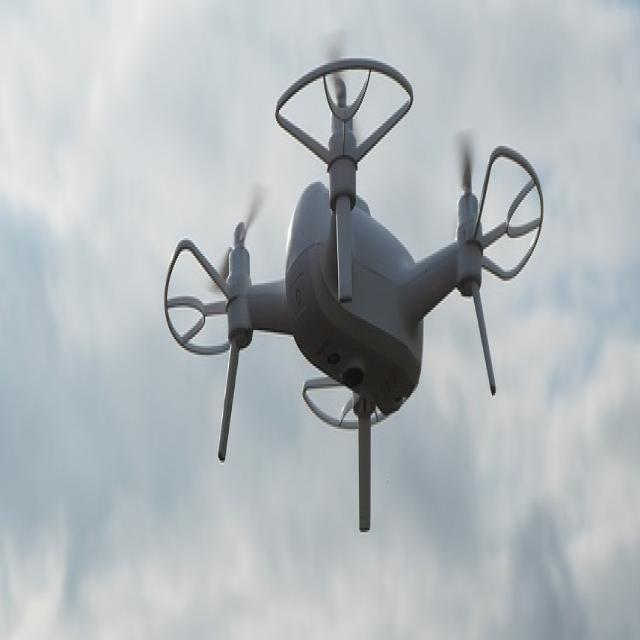drone: (165, 47, 548, 503)
